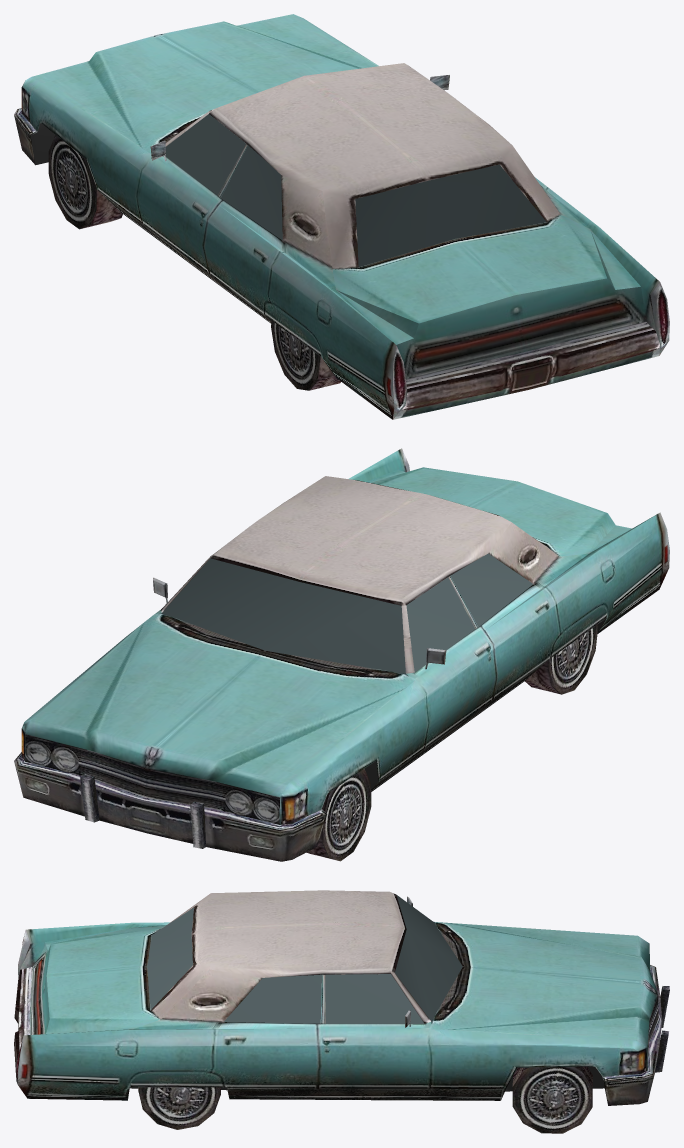
File: p54_24_sedan_hardtop_teal.glb
The picture shows the model from 3 angles, top to bottom: view 1: azimuth 30°, elevation 25°; view 2: azimuth 150°, elevation 25°; view 3: azimuth 270°, elevation 25°; orthographic projection. The views are drawn at different scales.
Visible parts, largest first — view 1: Body, Glass; view 2: Body, Glass; view 3: Body, Glass.
Part boxes in pixels (x1,y1,x2,y2): Body: [14, 14, 669, 419]; Glass: [165, 114, 546, 266]; Body: [14, 448, 669, 861]; Glass: [162, 553, 533, 673]; Body: [14, 890, 669, 1133]; Glass: [147, 895, 462, 1023].
Bounding box in the file's own units: 2.25 × 1.33 × 5.15.
Materials: 2 (2 with a texture image).
